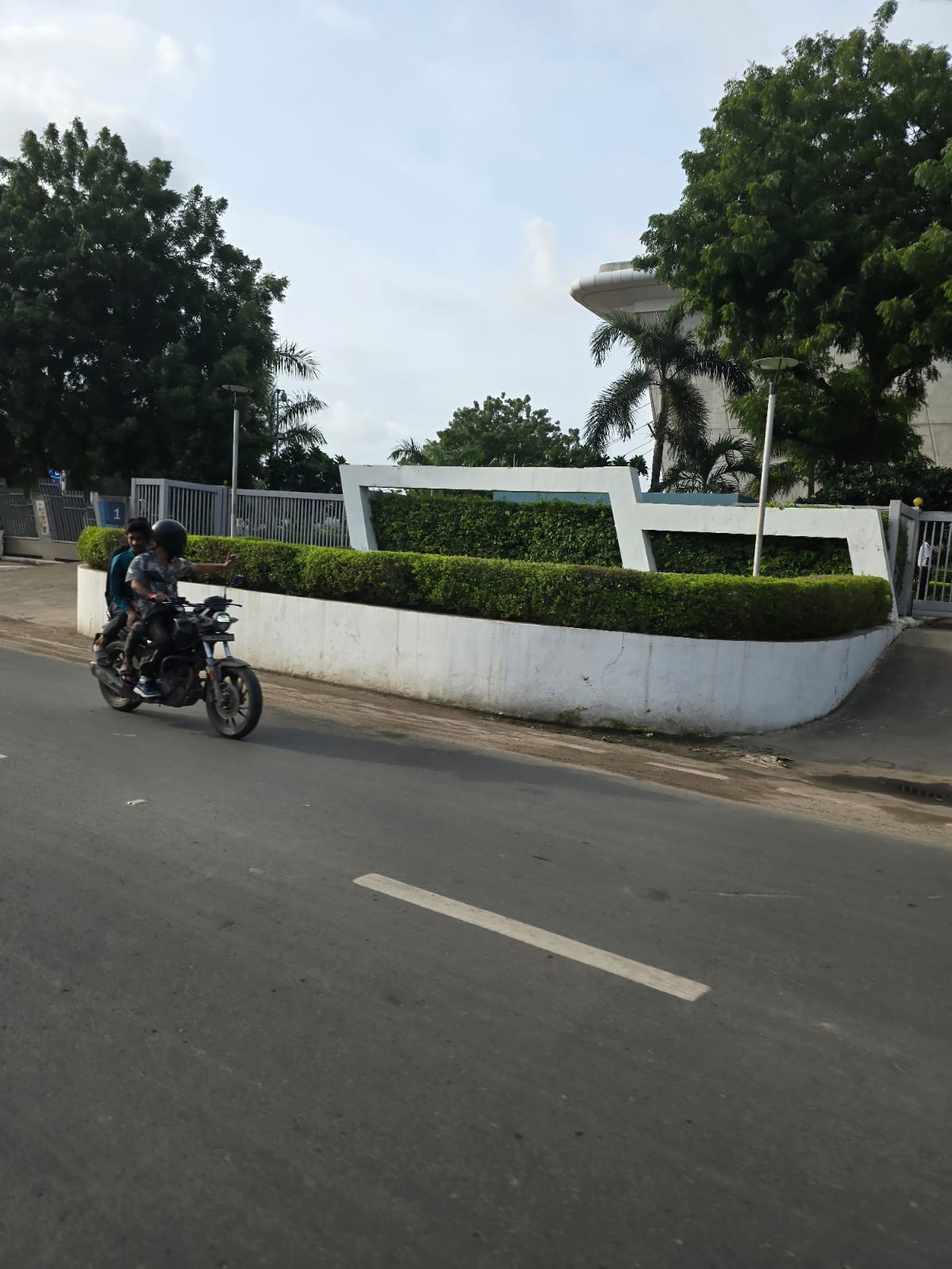BikeWithRider: (87, 516, 264, 740)
Helmet: (149, 517, 189, 561)
NoHelmet: (124, 517, 150, 553)
